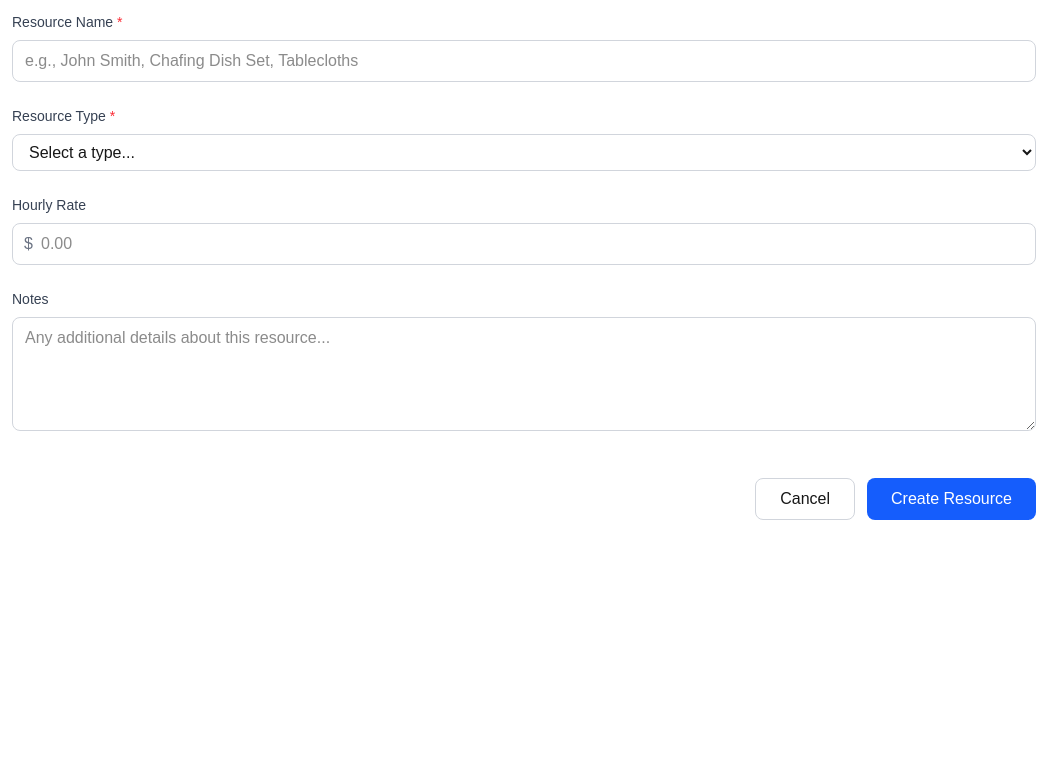
Test case: ResourceForm › validation › shows error when name is empty on submit
Select "Staff" in the dropdown labelled "Resource Type *" at (524, 152), box [12,134,1036,171]
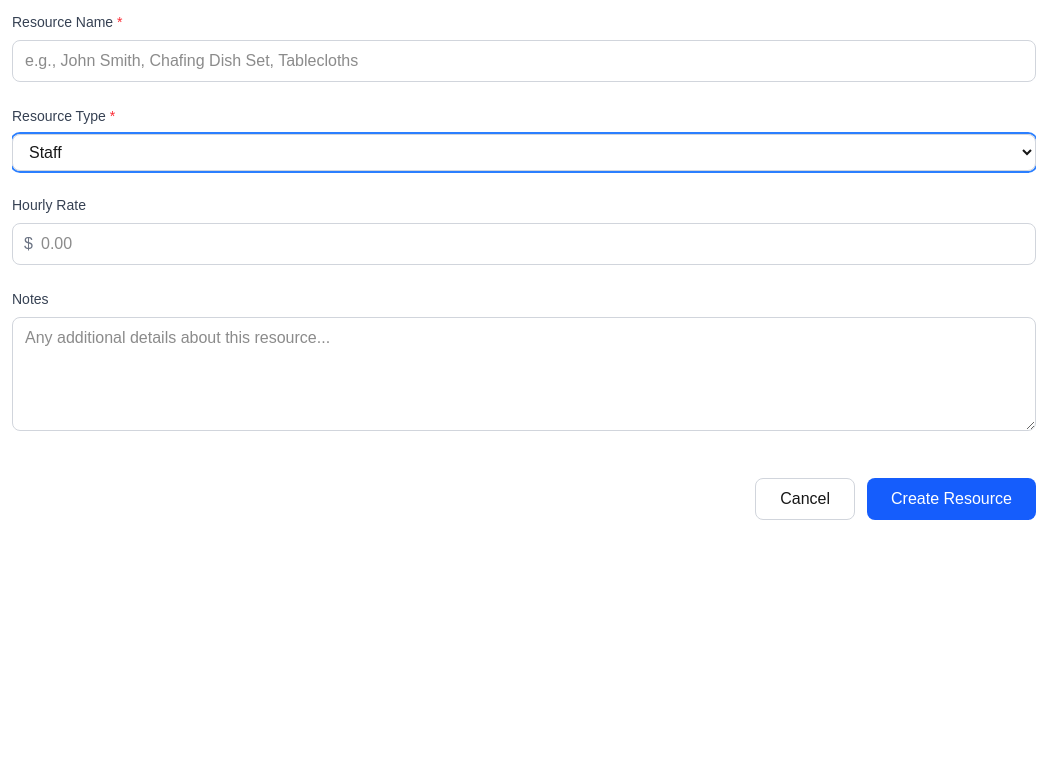
Click the button "Create Resource" at (952, 499), box [867,478,1036,520]
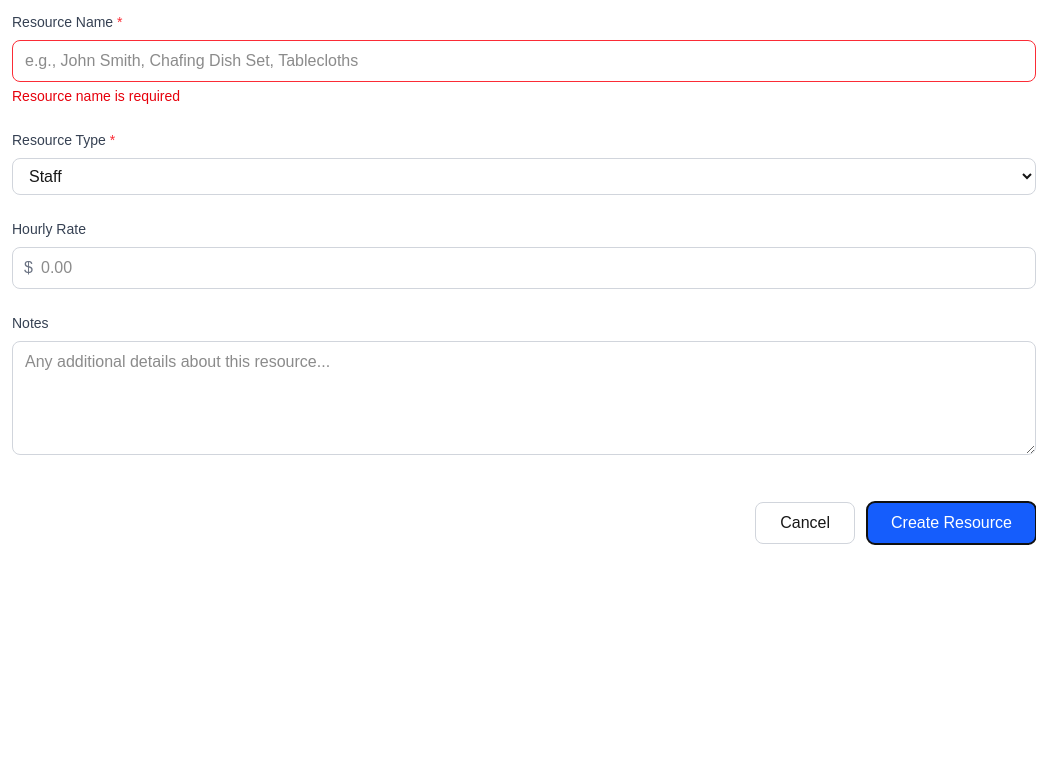
Result: the text "Resource name is required" is shown at [12,88,180,104]
